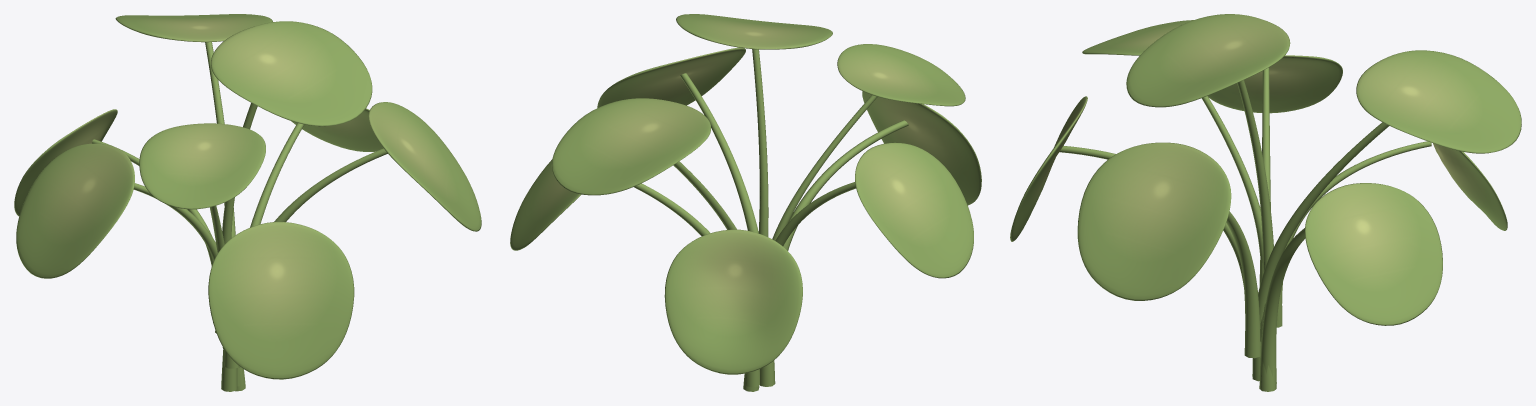
File: round_leaves.glb
3 views of the same model, side by side, from view 1: azimuth 30°, elevation 25°; view 2: azimuth 150°, elevation 25°; view 3: azimuth 270°, elevation 25° (orthographic). The views are drawn at different scales.
Visible parts, largest first — view 1: Plane.053, Plane.057, Plane.048, Plane.054, Plane.052, NurbsPath.042, Plane.055, Plane.049, Plane.051; view 2: Plane.049, Plane.048, Plane.055, NurbsPath.042, Plane.054, Plane.053, Plane.052, Plane.057, Plane.051; view 3: Plane.052, Plane.051, NurbsPath.042, Plane.055, Plane.057, Plane.048, Plane.049, Plane.053, Plane.054.
Boxes of the visible parts, x1,y1,x2,y2 form: Plane.053: (208, 222, 354, 379); Plane.057: (211, 21, 372, 126); Plane.048: (16, 143, 134, 278); Plane.054: (139, 123, 265, 209); Plane.052: (368, 102, 481, 231); NurbsPath.042: (92, 42, 387, 391); Plane.055: (115, 14, 272, 42); Plane.049: (14, 109, 117, 216); Plane.051: (291, 108, 383, 151); Plane.049: (664, 229, 802, 374); Plane.048: (855, 142, 973, 278); Plane.055: (551, 98, 710, 195); NurbsPath.042: (634, 49, 908, 391); Plane.054: (837, 44, 965, 106); Plane.053: (862, 91, 981, 205); Plane.052: (597, 47, 745, 107); Plane.057: (676, 14, 832, 49); Plane.051: (510, 159, 581, 250); Plane.052: (1077, 142, 1231, 300); Plane.051: (1305, 183, 1442, 325); NurbsPath.042: (1059, 67, 1431, 391); Plane.055: (1356, 50, 1521, 153); Plane.057: (1126, 14, 1290, 107); Plane.048: (1208, 55, 1342, 113); Plane.049: (1433, 143, 1507, 230); Plane.053: (1010, 96, 1087, 241); Plane.054: (1082, 20, 1193, 55).
Bounding box in the file's own units: 16.75 × 14.07 × 18.04.
Materials: 2 (1 with a texture image).
